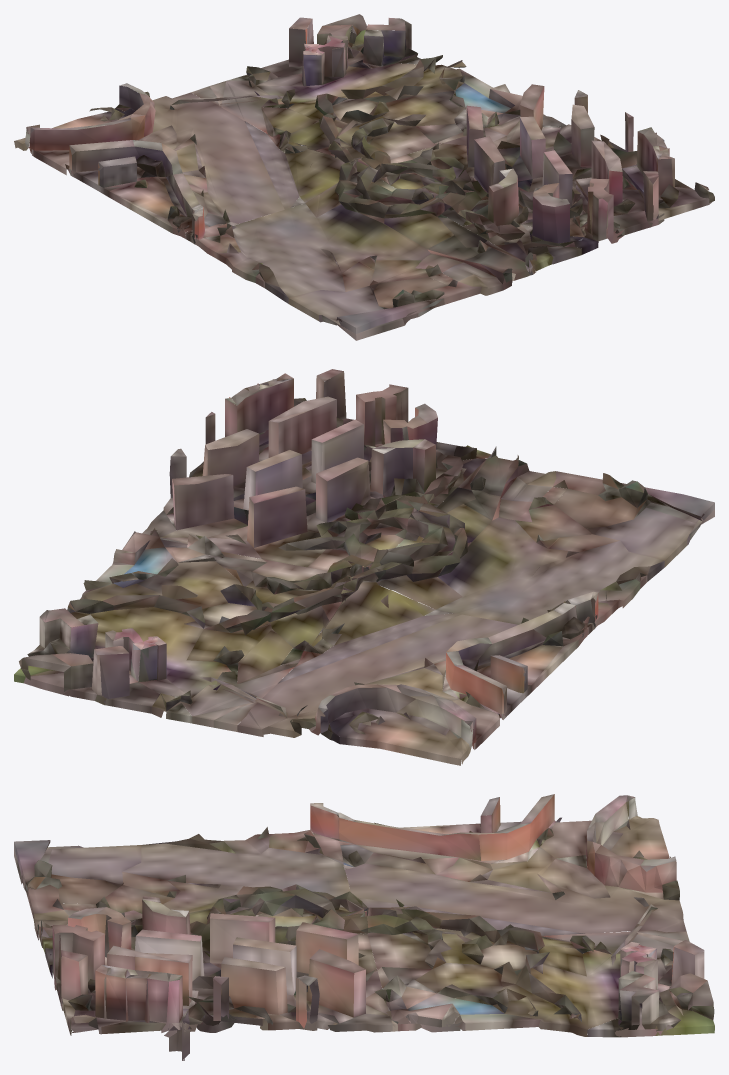
The picture shows the model from 3 angles, top to bottom: view 1: azimuth 30°, elevation 25°; view 2: azimuth 150°, elevation 25°; view 3: azimuth 270°, elevation 25°; orthographic projection. The views are drawn at different scales.
Parts seen in each view (by area): view 1: Mesh_0; view 2: Mesh_0; view 3: Mesh_0.
Part boxes in pixels (left/top/right/bottom): Mesh_0: left=14, top=14, right=714, bottom=340; Mesh_0: left=14, top=369, right=714, bottom=765; Mesh_0: left=14, top=794, right=714, bottom=1060.
Bounding box in the file's own units: 540 × 94.71 × 659.
Materials: 2 (2 with a texture image).
